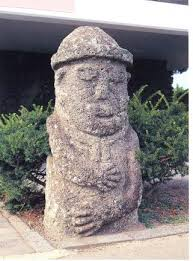Stone Statue: (33, 20, 155, 245)
